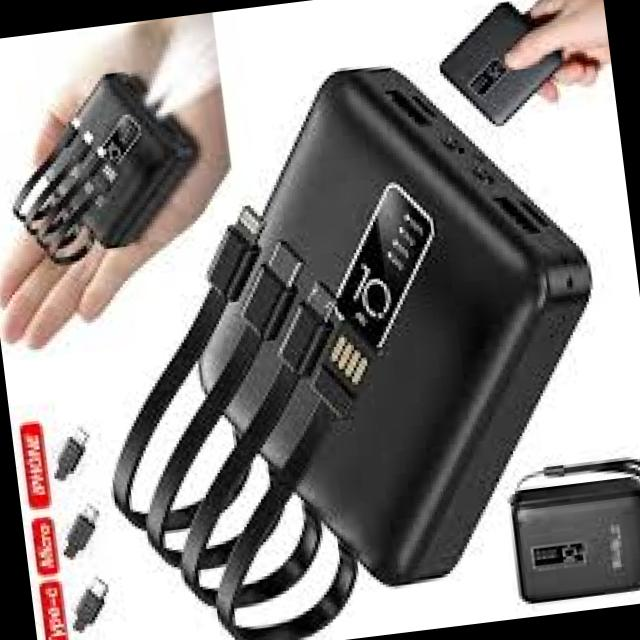portable-charger: (160, 38, 629, 610), (31, 60, 210, 258), (430, 0, 571, 136), (505, 474, 640, 604)
